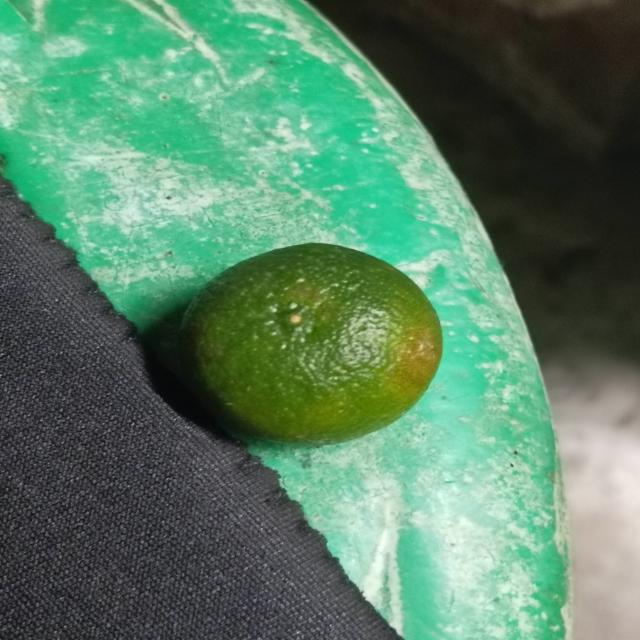heathy: (176, 245, 448, 452)
